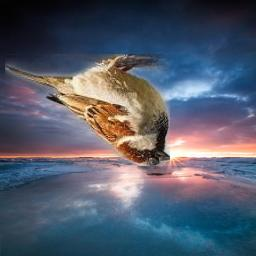Sparrow: (6, 54, 171, 166)
